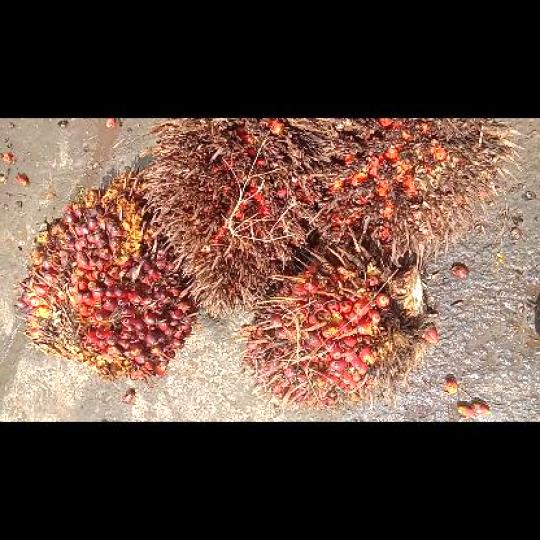masak: (12, 168, 201, 385), (237, 237, 438, 409)
terlalu masak: (136, 118, 339, 318), (317, 118, 527, 264)
